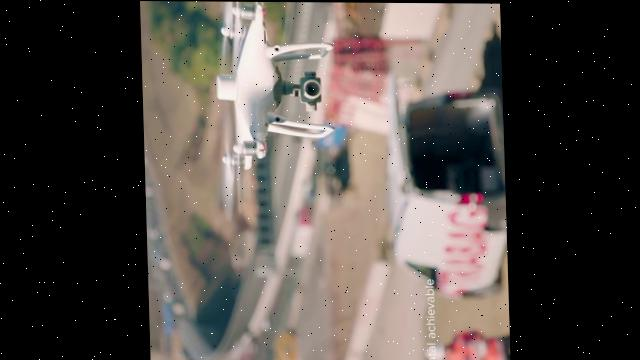drone: (212, 1, 339, 223)
